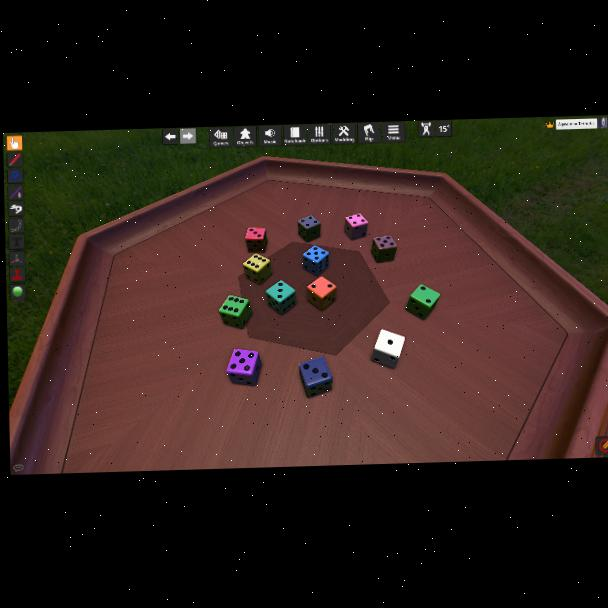d6: (226, 346, 263, 386), (298, 357, 333, 399), (371, 328, 405, 369), (219, 294, 253, 329), (406, 284, 438, 321), (265, 279, 297, 316), (307, 276, 337, 312), (242, 252, 272, 285), (302, 244, 330, 277), (370, 235, 396, 264), (297, 215, 321, 243), (344, 213, 368, 240), (244, 227, 267, 254)
